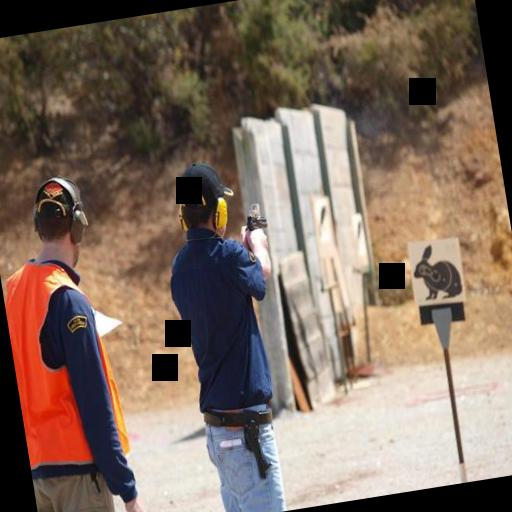Handgun: (240, 196, 272, 236)
